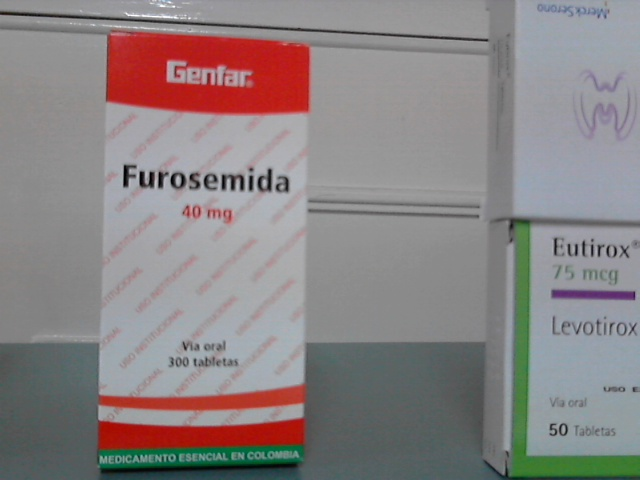Genfar: (104, 32, 306, 462)
